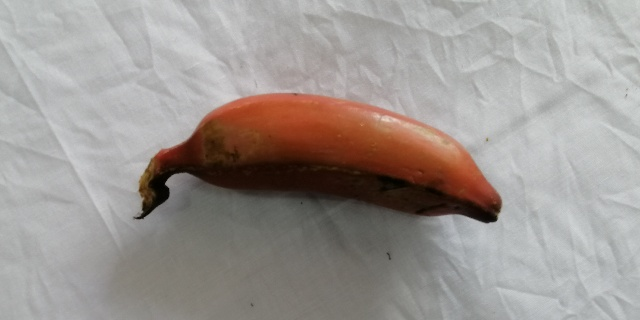banana_red: (138, 93, 502, 228)
